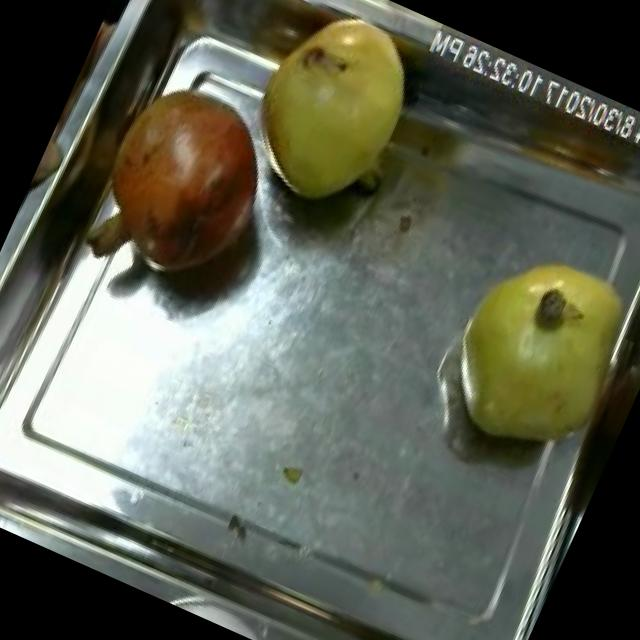fruit: (62, 49, 305, 315), (409, 216, 640, 487), (215, 0, 443, 237), (20, 112, 86, 216)
